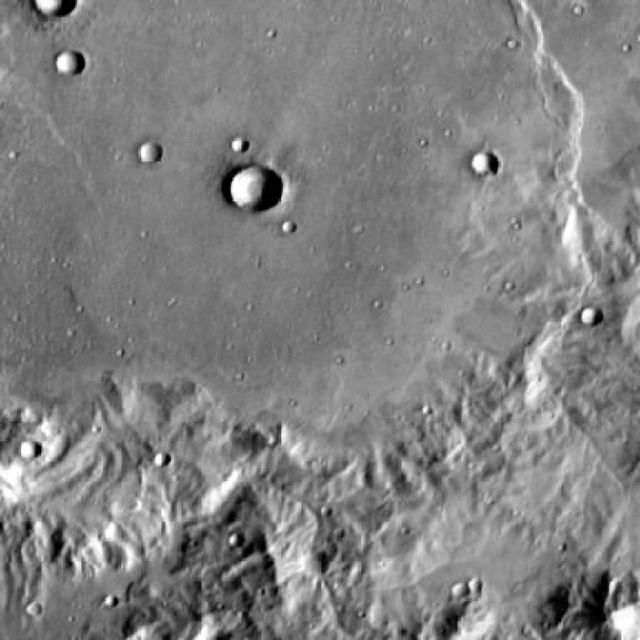crater: (225, 164, 281, 213), (468, 149, 499, 176), (56, 53, 84, 76), (18, 438, 40, 458), (139, 144, 161, 162), (581, 308, 602, 326)
